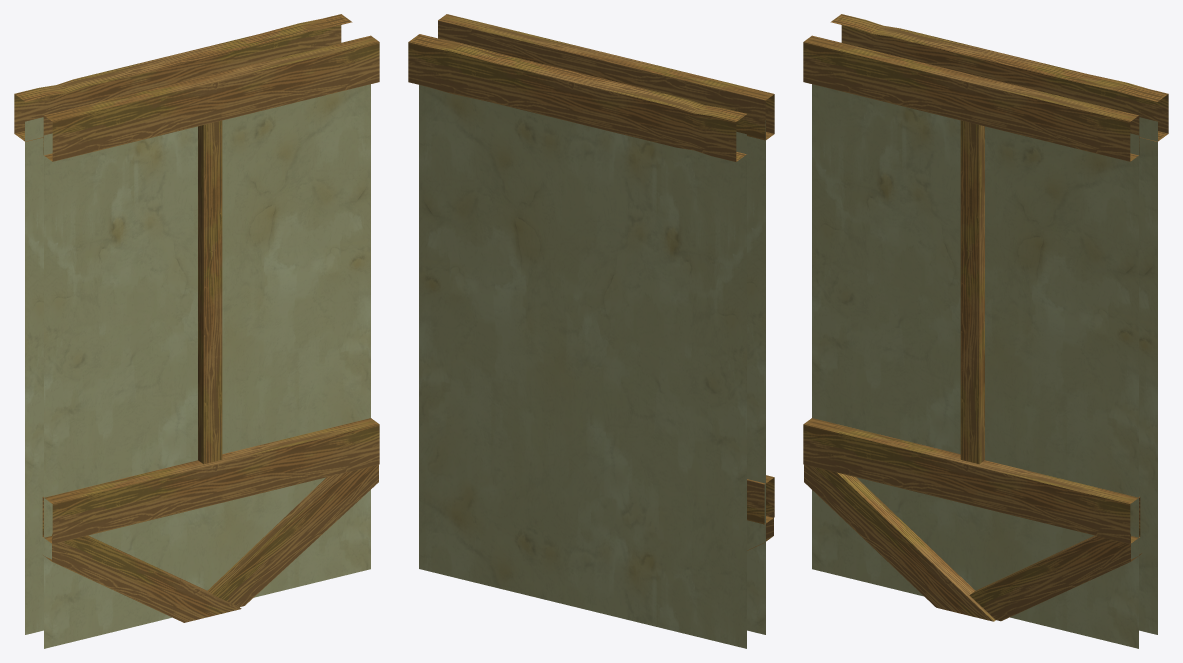
3 renders of one model, left to right at view 1: azimuth 30°, elevation 25°; view 2: azimuth 150°, elevation 25°; view 3: azimuth 330°, elevation 25°, orthographic.
Parts seen in each view (by area): view 1: 6ceb99c11081cd28a643097210b589ab131137f235c665e694963c4aba9f; view 2: 6ceb99c11081cd28a643097210b589ab131137f235c665e694963c4aba9f; view 3: 6ceb99c11081cd28a643097210b589ab131137f235c665e694963c4aba9f.
Part boxes in pixels (<box>): 6ceb99c11081cd28a643097210b589ab131137f235c665e694963c4aba9f: <box>14,14,379,648</box>; 6ceb99c11081cd28a643097210b589ab131137f235c665e694963c4aba9f: <box>408,14,774,648</box>; 6ceb99c11081cd28a643097210b589ab131137f235c665e694963c4aba9f: <box>803,14,1168,648</box>.
Bounding box in the file's own units: 2 × 3.12 × 0.4065.
Materials: 2 (2 with a texture image).
